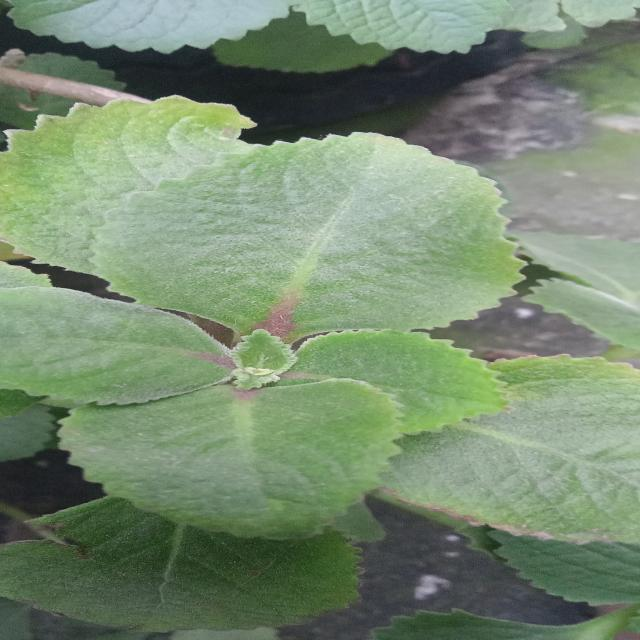Oregano: (15, 78, 561, 556)
